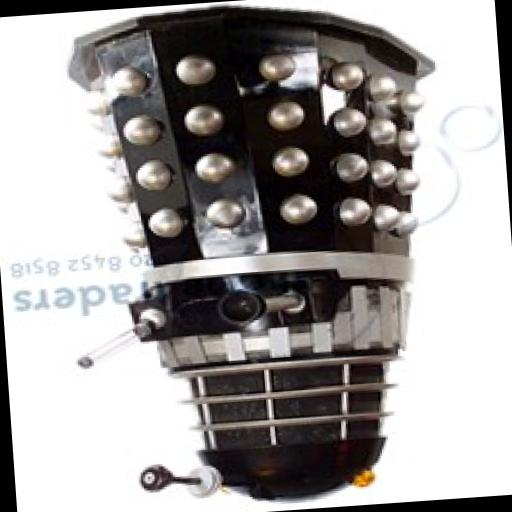dalek: (59, 0, 466, 512)
